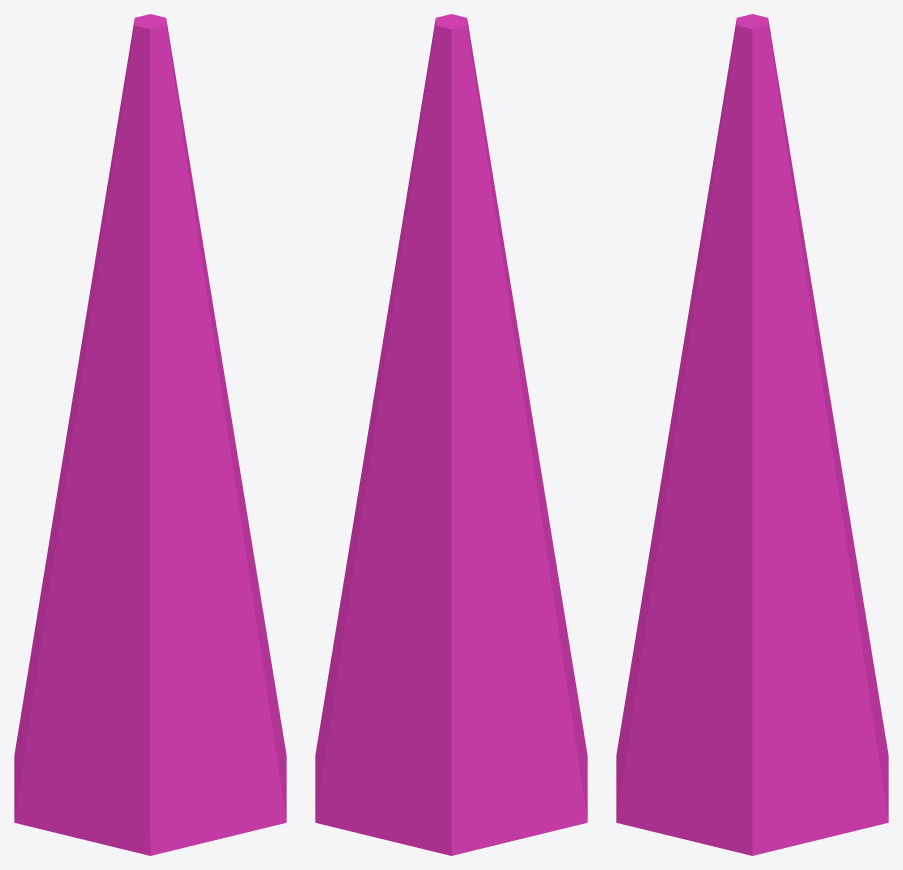
File: trail.glb
The picture shows the model from 3 angles, left to right: view 1: azimuth 30°, elevation 25°; view 2: azimuth 150°, elevation 25°; view 3: azimuth 270°, elevation 25°; orthographic projection.
Visible parts, largest first — view 1: Outer; view 2: Outer; view 3: Outer.
Part boxes in pixels (x1,y1,x2,y2): Outer: [14, 14, 286, 855]; Outer: [315, 14, 587, 855]; Outer: [616, 14, 888, 855].
Size of the model in its own units: 0.52 by 1.4 by 0.4503.
